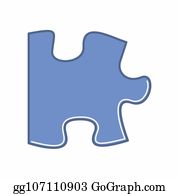puzzle piece: (23, 23, 160, 151)
